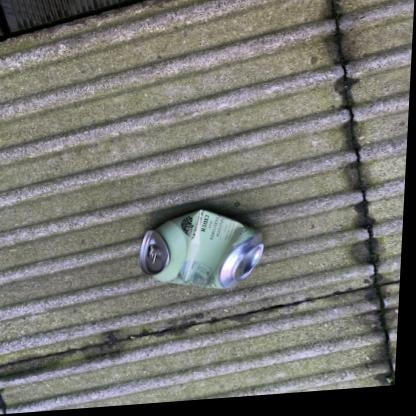trash: (139, 210, 263, 287)
